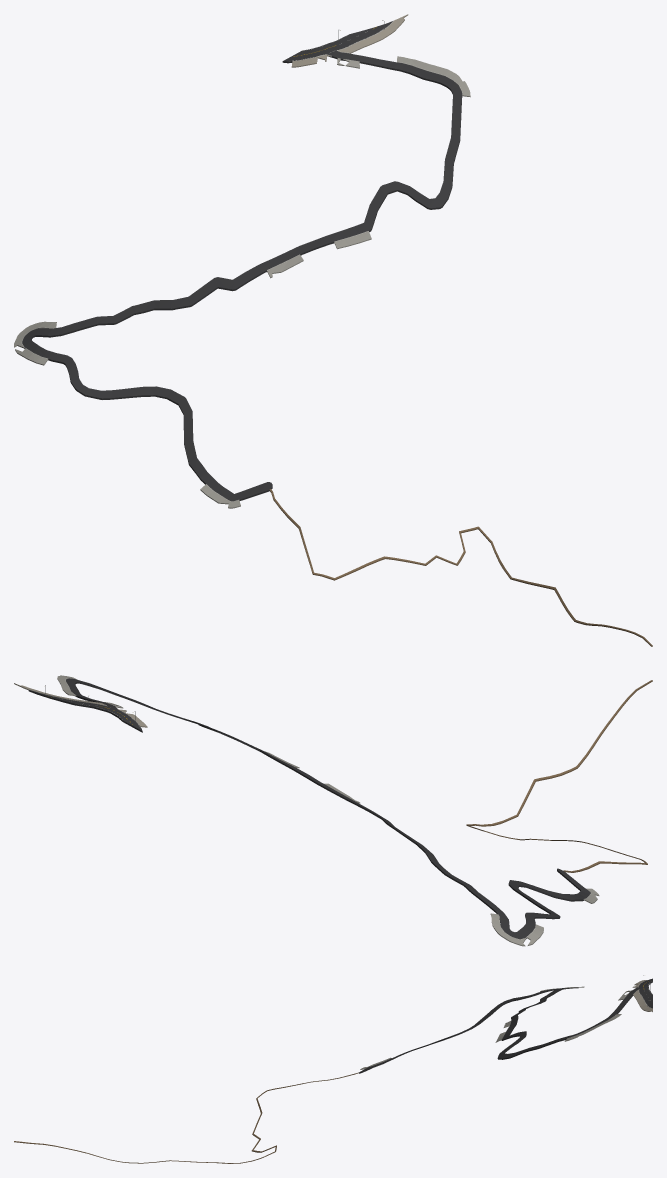
3 views of the same model, one above another, from view 1: azimuth 30°, elevation 25°; view 2: azimuth 150°, elevation 25°; view 3: azimuth 270°, elevation 25° (orthographic). The views are drawn at different scales.
Size of the model in its own units: 353 by 225 by 583.
